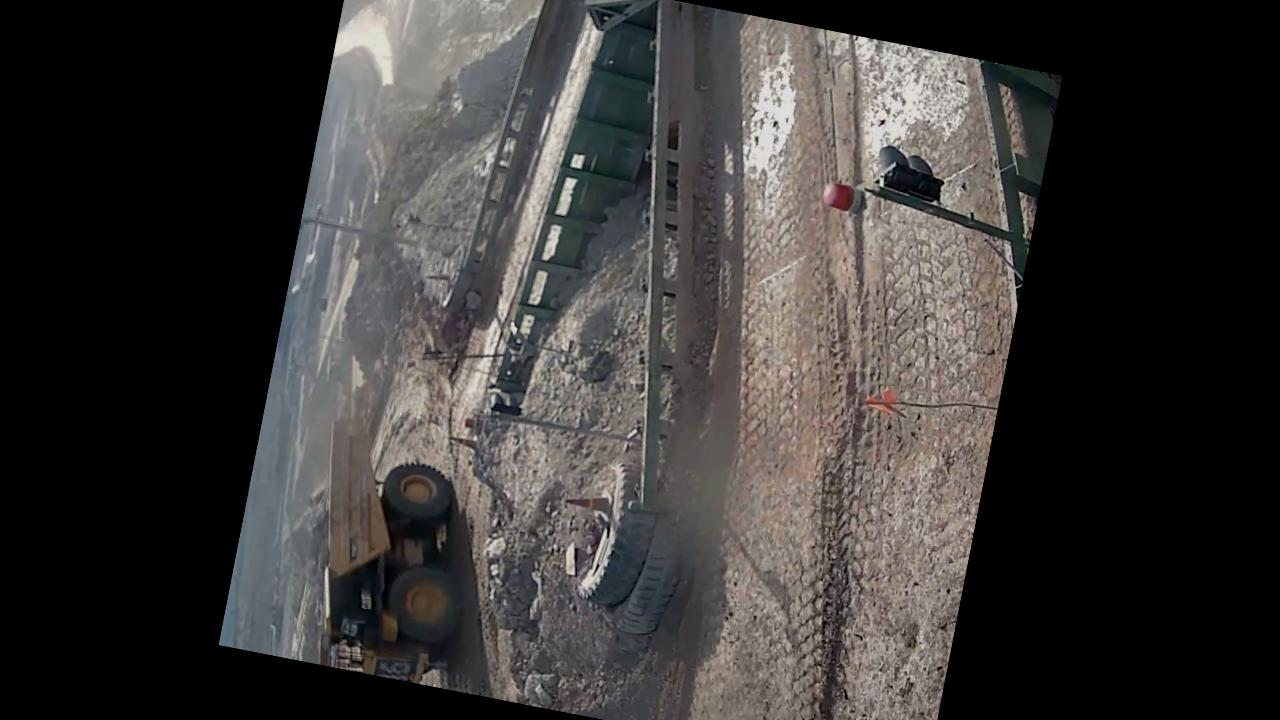front_number: (376, 651, 418, 683)
mining_truck: (283, 413, 494, 689)
